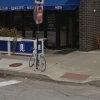Bicycle: (27, 44, 49, 73)
